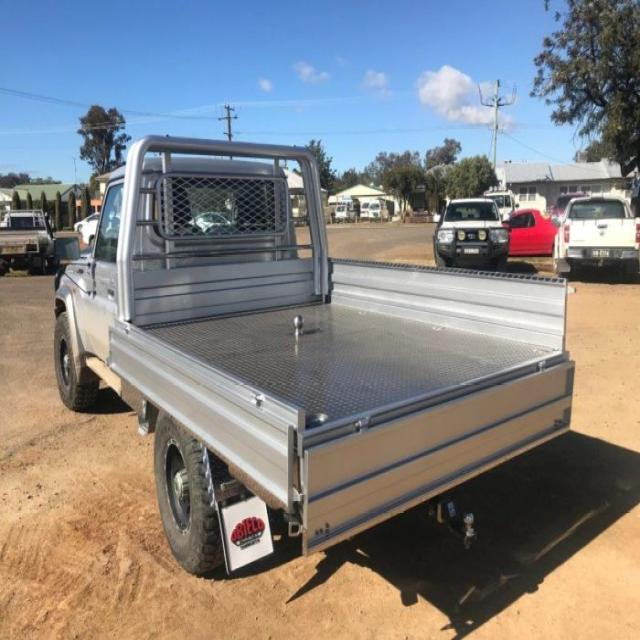light_vehicle: (48, 144, 579, 607)
